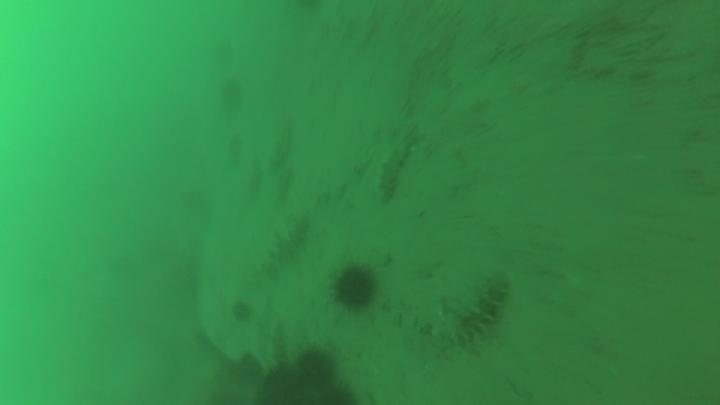echinus: (258, 370, 302, 405), (332, 269, 371, 306), (297, 381, 352, 405), (296, 349, 329, 378), (230, 304, 250, 320)
holothurian: (439, 272, 508, 350), (257, 213, 312, 275), (376, 144, 410, 204)
